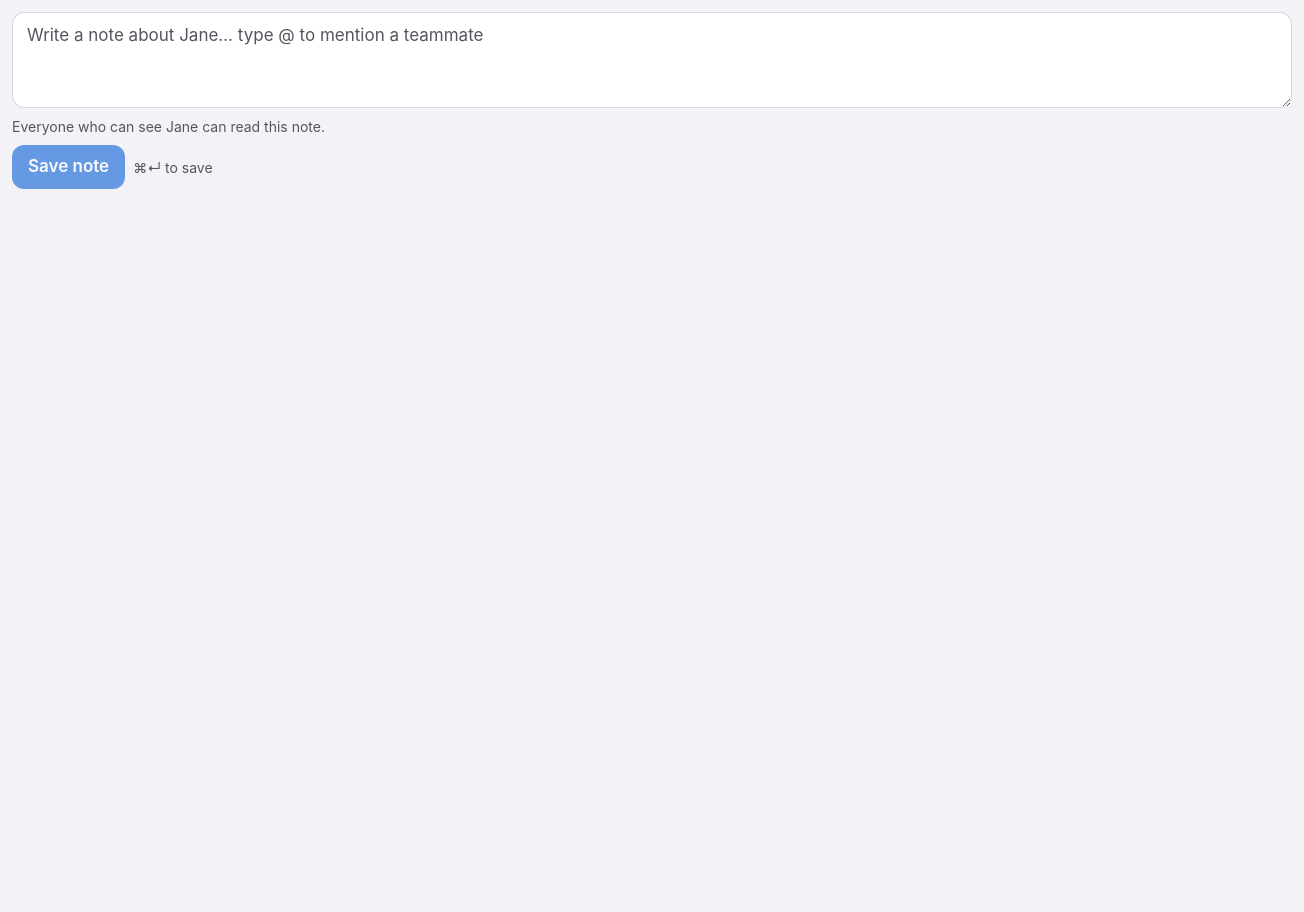
Test: NoteComposer save › ⌘↵ pressed twice while the save is in flight sends the note once
Type "Met at the open house" into the text box named "Note about Jane Doe" at [652, 60], box [12, 12, 1292, 108]
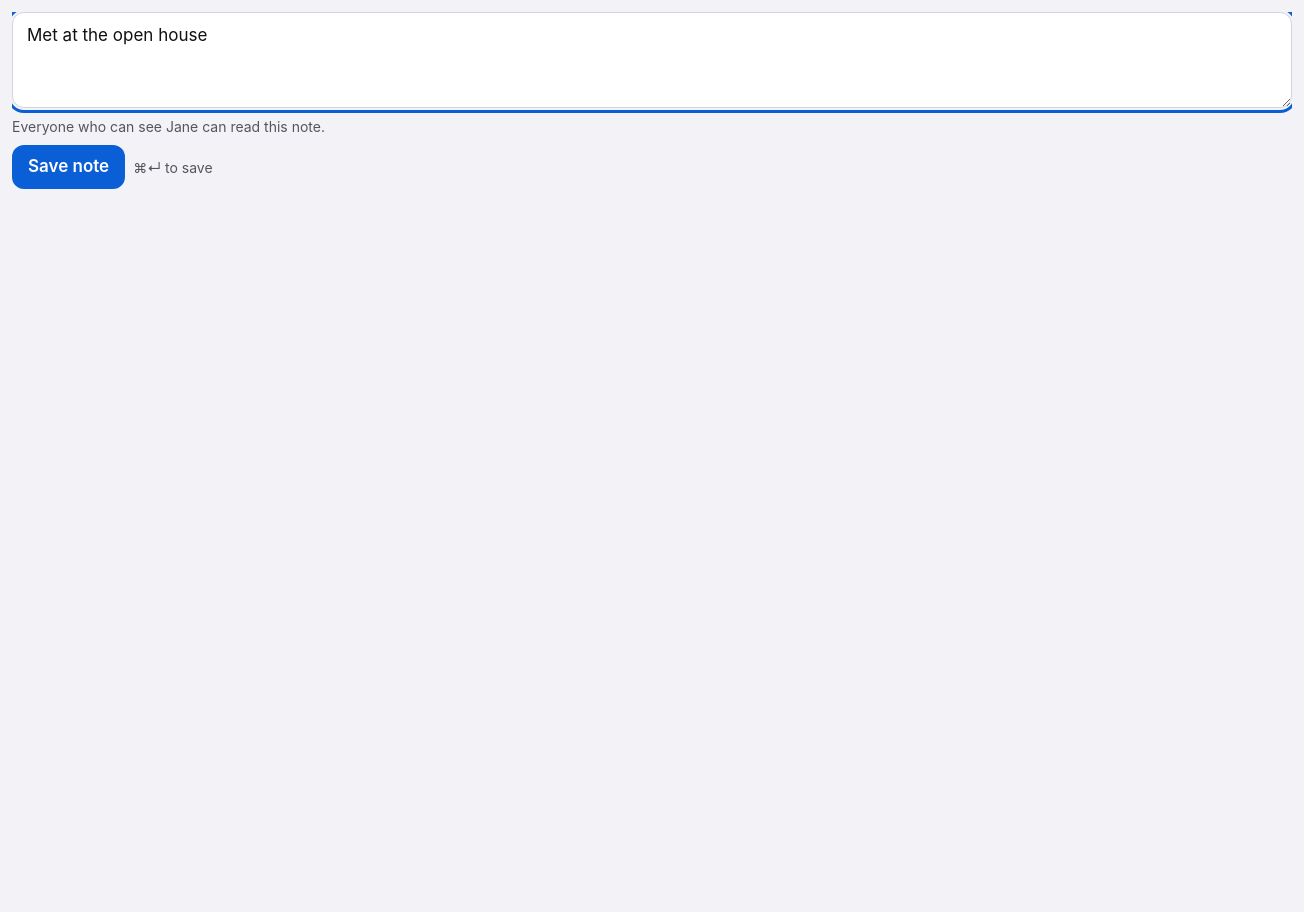
Type keys "{Meta>}{Enter}{/Meta}"
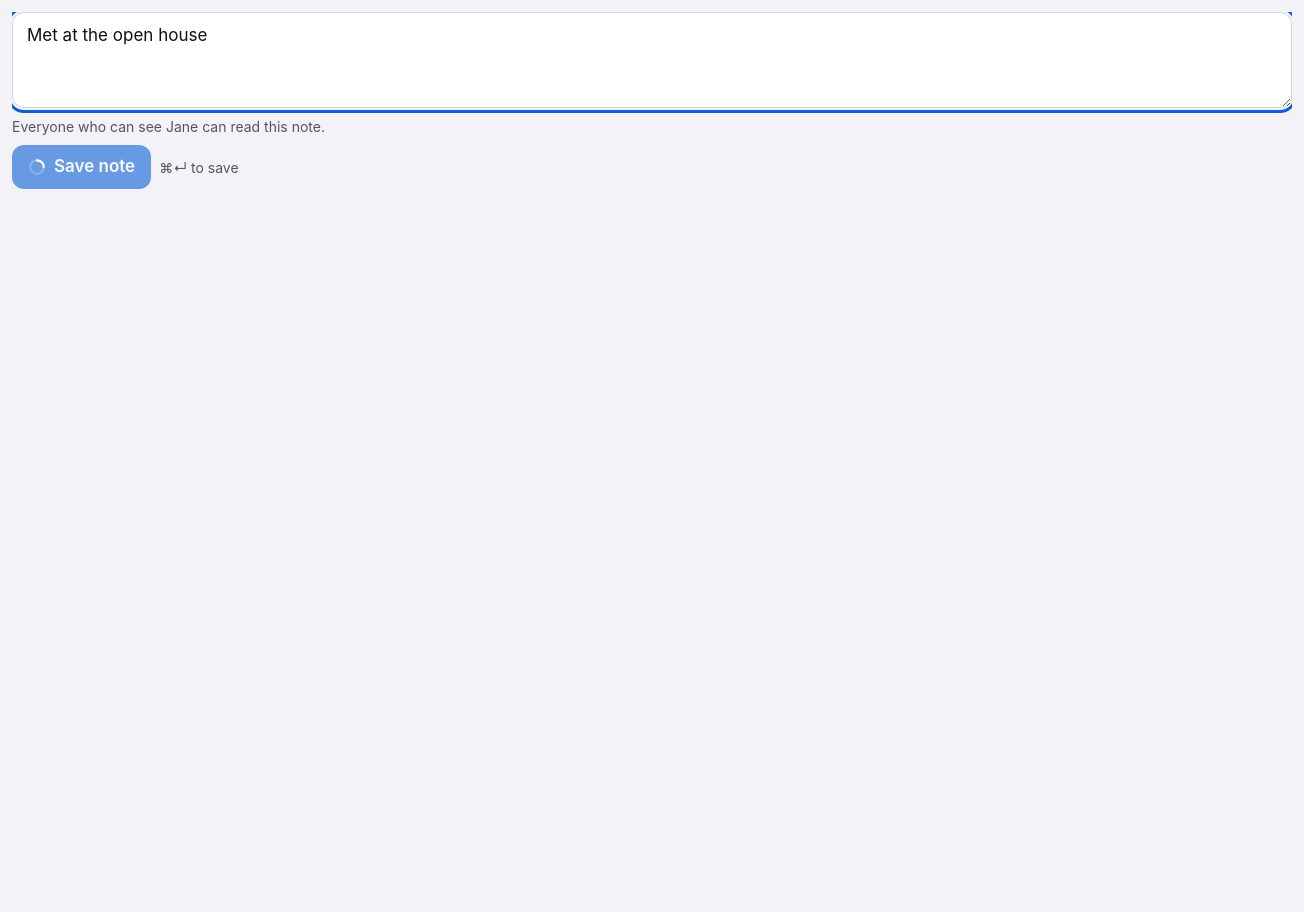
Type keys "{Meta>}{Enter}{/Meta}"
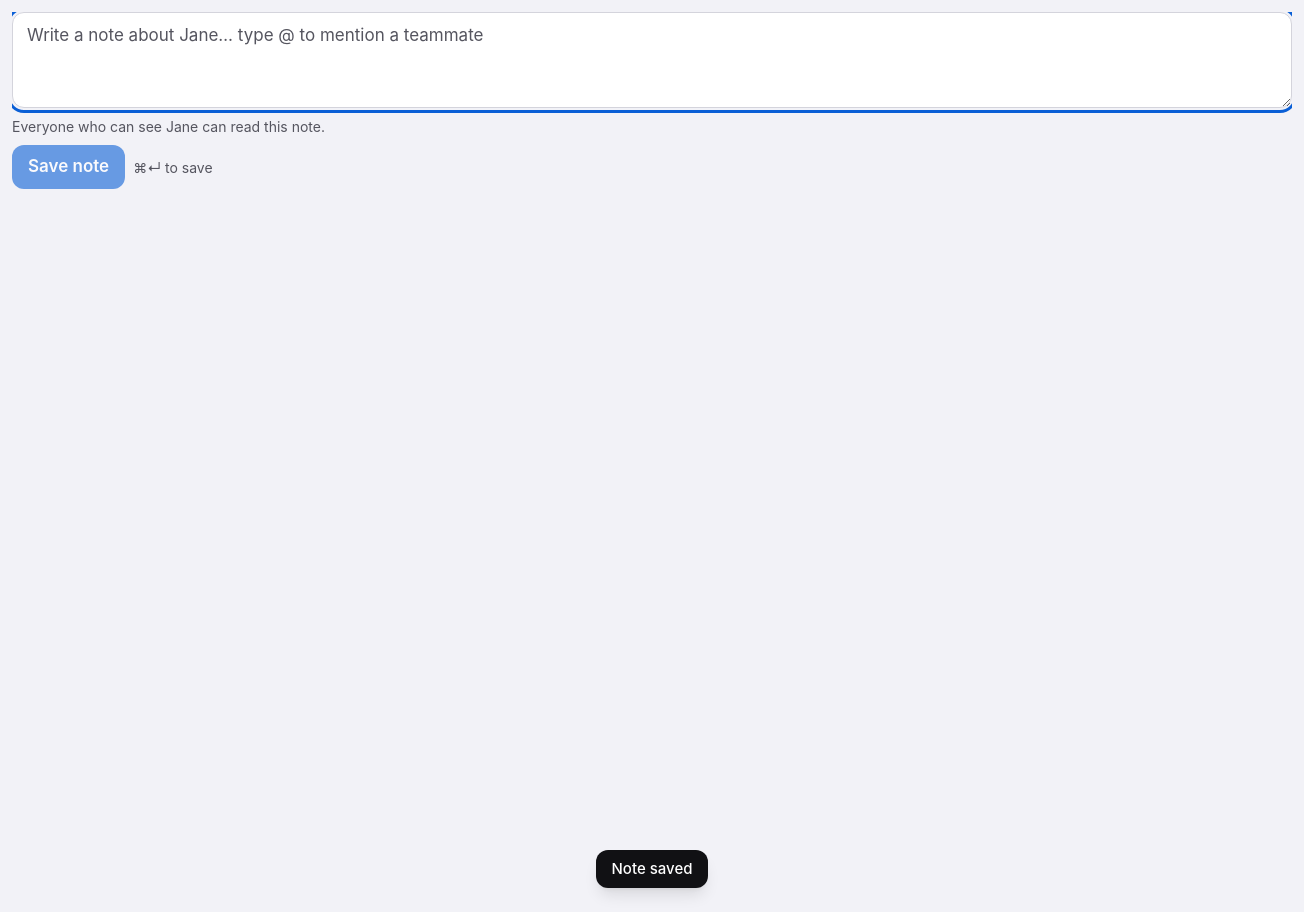
Expected: the text "Note saved" is shown, [612, 858, 692, 880]
